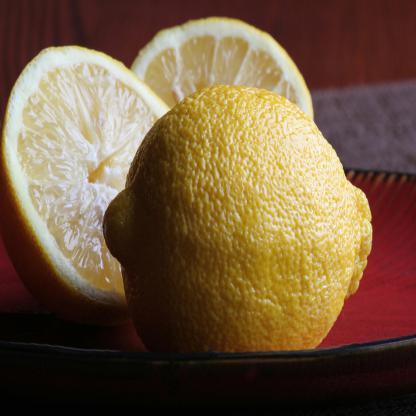lemon: (102, 84, 374, 354), (3, 43, 173, 312), (130, 15, 314, 123)
